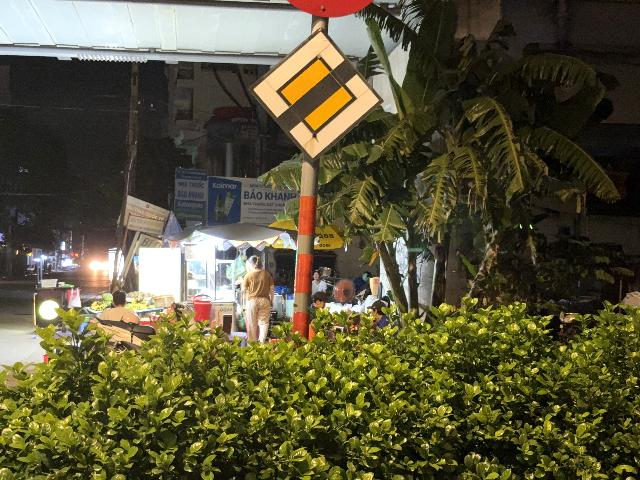het-duong-uu-tien: (248, 27, 385, 164)
